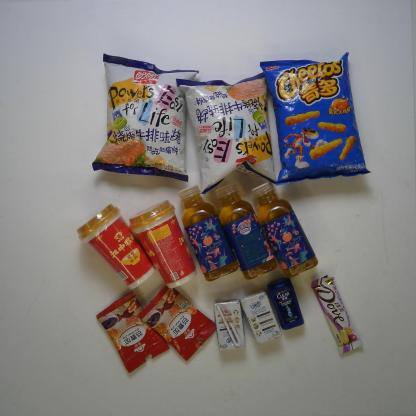Chocolate: (310, 272, 366, 356)
Drink: (250, 178, 318, 279), (214, 182, 279, 281), (176, 184, 239, 284)
Instant Drink: (77, 203, 157, 290), (127, 198, 199, 289), (137, 283, 219, 362), (96, 289, 170, 375)
Milk: (241, 289, 283, 345), (213, 298, 246, 352)
Personal Hygiene: (266, 272, 304, 333)
Puffed Food: (259, 50, 372, 188), (92, 52, 201, 184), (175, 70, 278, 195)
